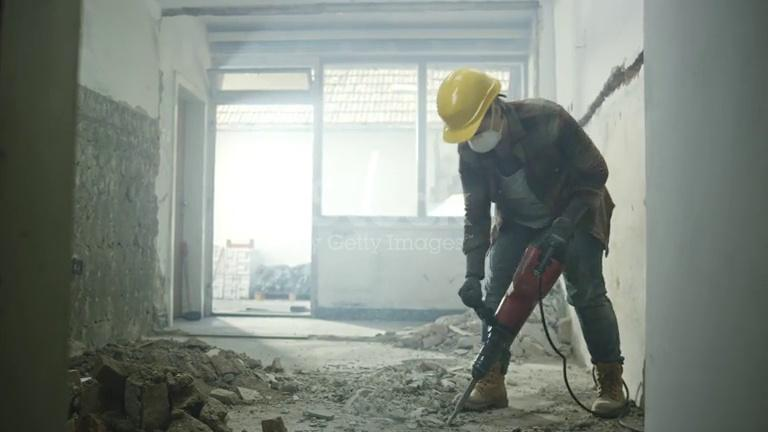helmet: (435, 68, 501, 145)
mask: (465, 130, 503, 156)
person: (435, 67, 630, 419)
